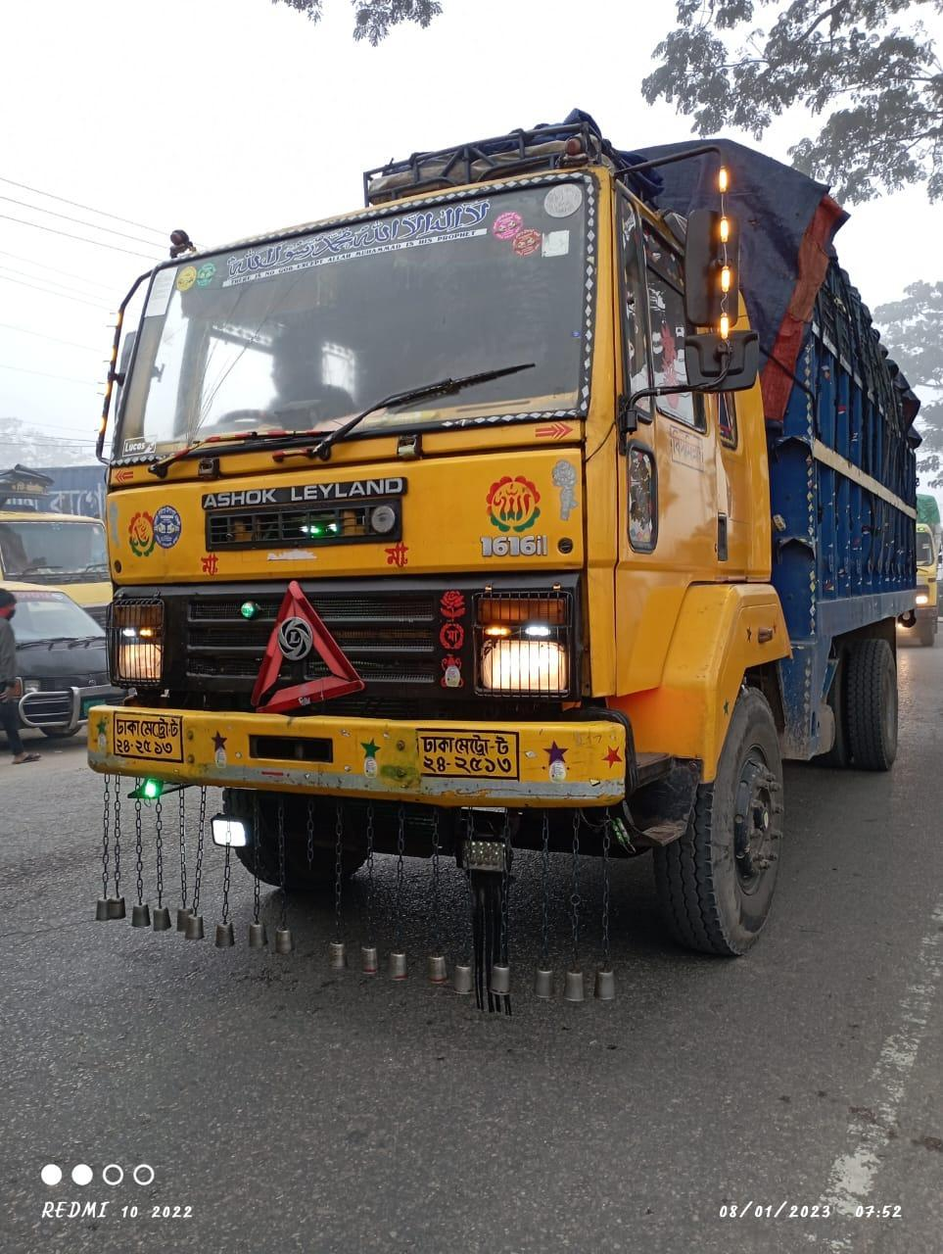Car: (1, 576, 137, 757)
Truck: (43, 109, 921, 985)
